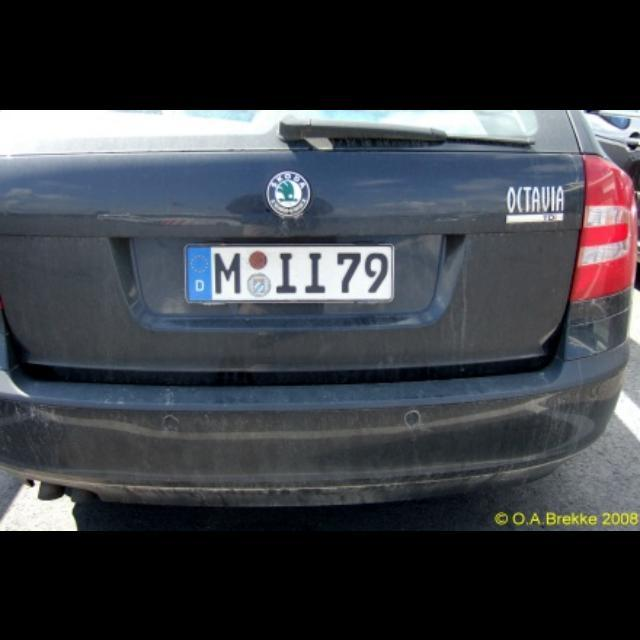license-plates: (185, 245, 395, 304)
